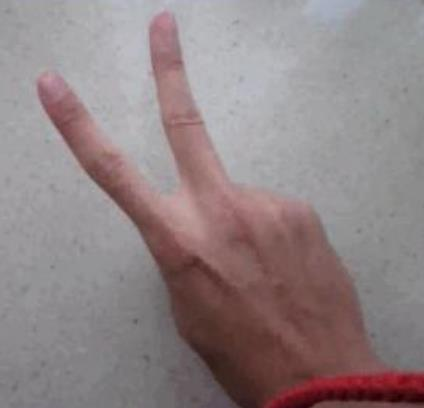front: (26, 6, 371, 368)
